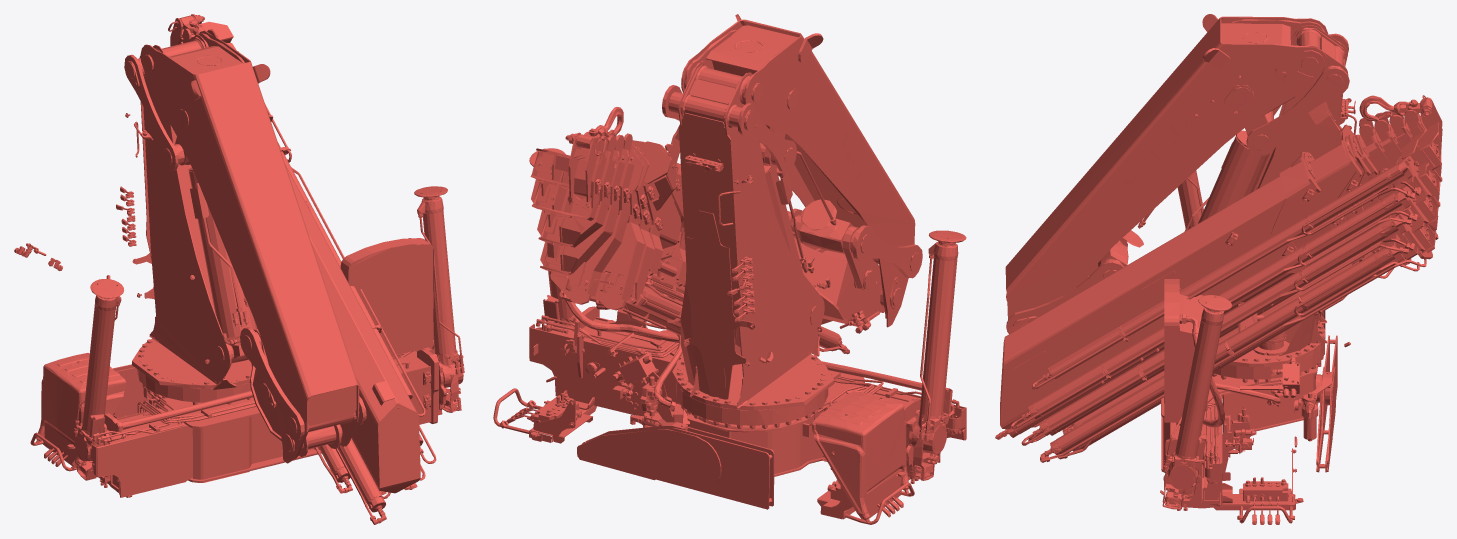
The model's file is hiab-x-hipro-408e8-articulated.glb.
3 views of the same model, side by side, from view 1: azimuth 30°, elevation 25°; view 2: azimuth 150°, elevation 25°; view 3: azimuth 270°, elevation 25° (orthographic). The views are drawn at different scales.
Parts seen in each view (by area): view 1: main_mesh, base_mesh, column_mesh, outer_mesh, ext5_mesh, ext6_mesh; view 2: base_mesh, column_mesh, main_mesh, ext1_mesh, ext5_mesh, ext6_mesh, outer_mesh, ext4_mesh, ext2_mesh, ext3_mesh; view 3: main_mesh, base_mesh, outer_mesh, ext1_mesh, ext5_mesh, column_mesh, ext4_mesh, ext2_mesh, ext6_mesh, ext3_mesh.
Part boxes in pixels (bbox=[...]): main_mesh: bbox=[124, 30, 366, 463]; base_mesh: bbox=[14, 186, 464, 497]; column_mesh: bbox=[116, 34, 270, 389]; outer_mesh: bbox=[280, 147, 423, 524]; ext5_mesh: bbox=[238, 51, 425, 416]; ext6_mesh: bbox=[168, 14, 235, 49]; base_mesh: bbox=[493, 148, 966, 524]; column_mesh: bbox=[621, 14, 827, 408]; main_mesh: bbox=[662, 19, 922, 327]; ext1_mesh: bbox=[563, 140, 683, 335]; ext5_mesh: bbox=[531, 129, 632, 275]; ext6_mesh: bbox=[530, 107, 623, 220]; outer_mesh: bbox=[635, 163, 849, 354]; ext4_mesh: bbox=[543, 149, 634, 296]; ext2_mesh: bbox=[550, 143, 654, 304]; ext3_mesh: bbox=[540, 148, 644, 301]; main_mesh: bbox=[1005, 16, 1349, 333]; base_mesh: bbox=[1160, 170, 1350, 524]; outer_mesh: bbox=[995, 156, 1372, 462]; ext1_mesh: bbox=[1004, 124, 1419, 456]; ext5_mesh: bbox=[1031, 111, 1440, 389]; column_mesh: bbox=[1202, 14, 1356, 361]; ext4_mesh: bbox=[1011, 128, 1438, 429]; ext2_mesh: bbox=[1021, 134, 1432, 459]; ext6_mesh: bbox=[1359, 95, 1442, 198]; ext3_mesh: bbox=[1352, 134, 1424, 265].
Size of the model in its own units: 2.51 by 2.51 by 2.6.
